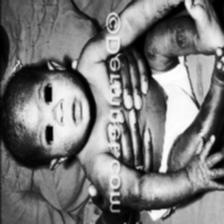Non-Cancerous Skin Condition: (13, 89, 42, 141), (129, 176, 163, 208), (168, 20, 192, 50), (168, 136, 182, 176), (54, 73, 78, 95), (202, 100, 220, 129), (145, 36, 161, 66), (194, 124, 205, 162), (58, 131, 76, 153), (156, 0, 167, 15)
